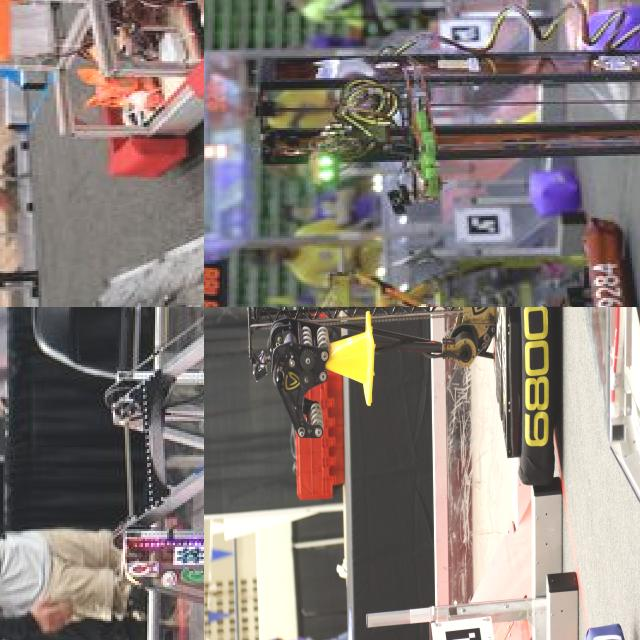FRC-Robots: (256, 0, 640, 226), (204, 307, 578, 494), (0, 307, 204, 640), (0, 0, 204, 153), (289, 229, 637, 307)
